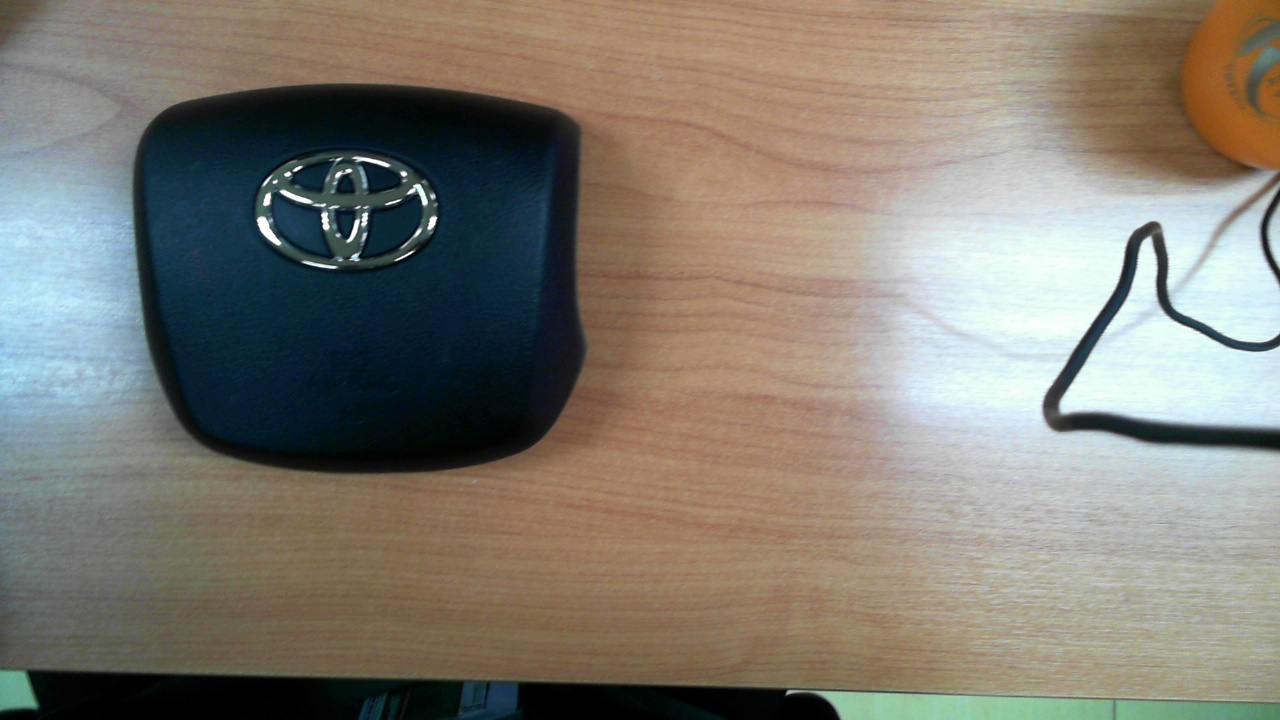Airbag: (132, 82, 589, 475)
Toyota: (255, 150, 438, 269)
